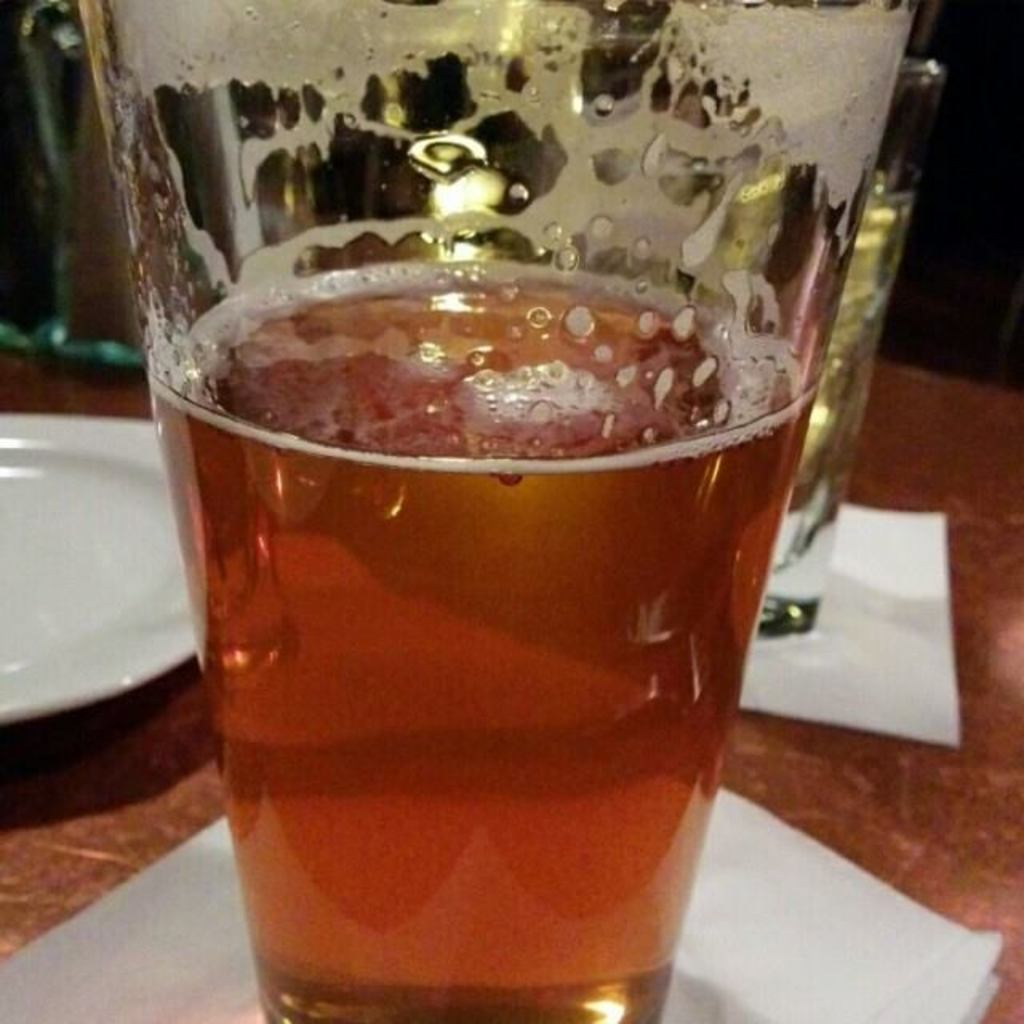Beer: (152, 265, 814, 1022)
